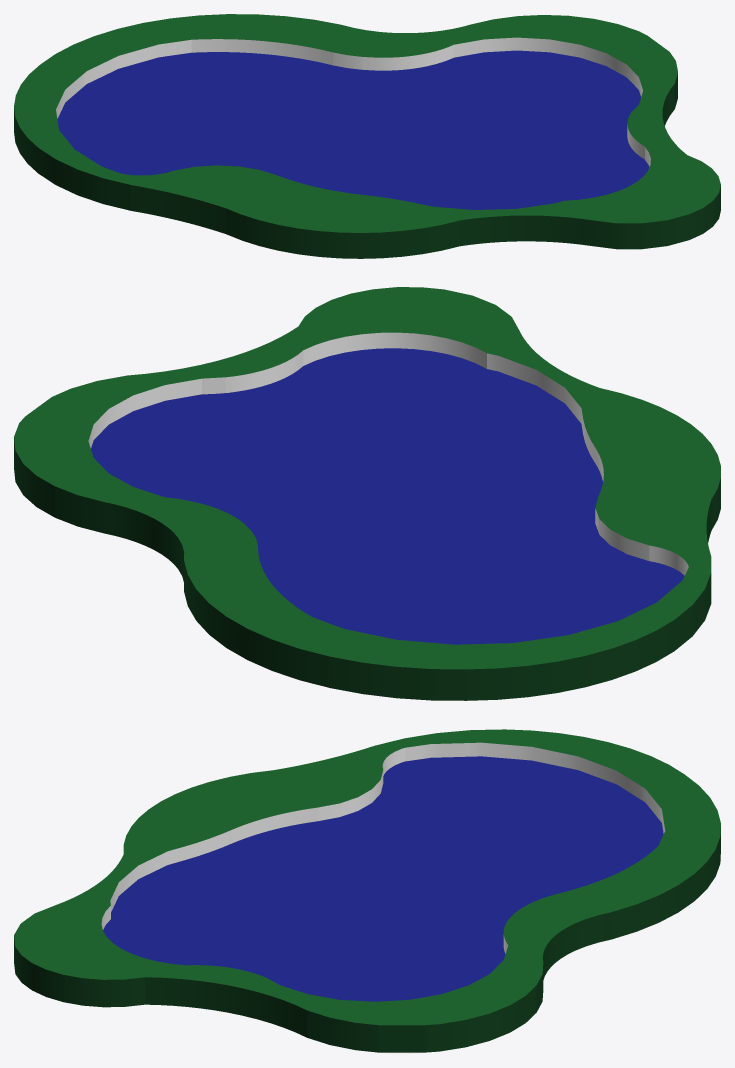
Rendered from simplehouse1.dae.
3 renders of one model, top to bottom at view 1: azimuth 30°, elevation 25°; view 2: azimuth 150°, elevation 25°; view 3: azimuth 270°, elevation 25°, orthographic. The views are drawn at different scales.
Visible parts, largest first — view 1: SketchUp (×4); view 2: SketchUp (×4); view 3: SketchUp (×4).
Boxes of the visible parts, x1=… form: SketchUp (×4): x1=14, y1=14, x2=720, y2=258; SketchUp (×4): x1=14, y1=287, x2=720, y2=700; SketchUp (×4): x1=14, y1=729, x2=720, y2=1052.
Bounding box in the file's own units: 18.28 × 18.41 × 0.7874.
